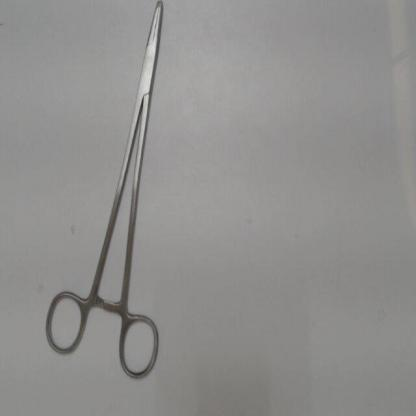8 Mayo Needle Holder: (35, 1, 170, 391)
